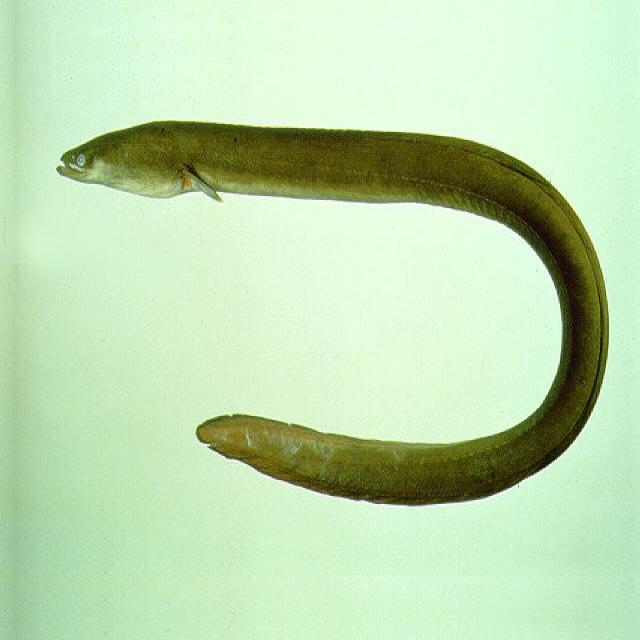Freshwater-Eel: (44, 90, 628, 557)
